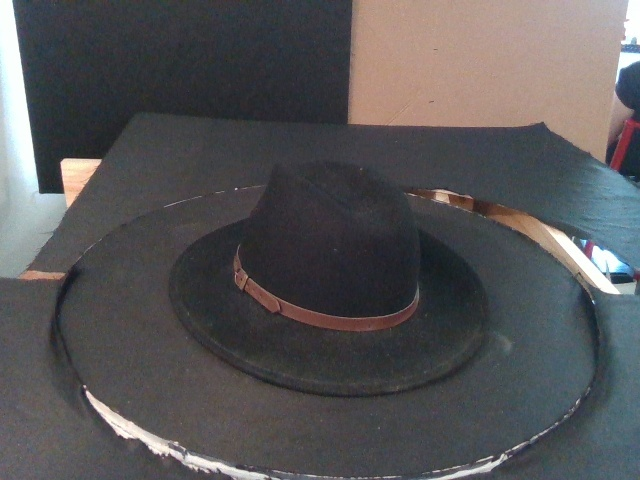hat: (167, 161, 491, 399)
